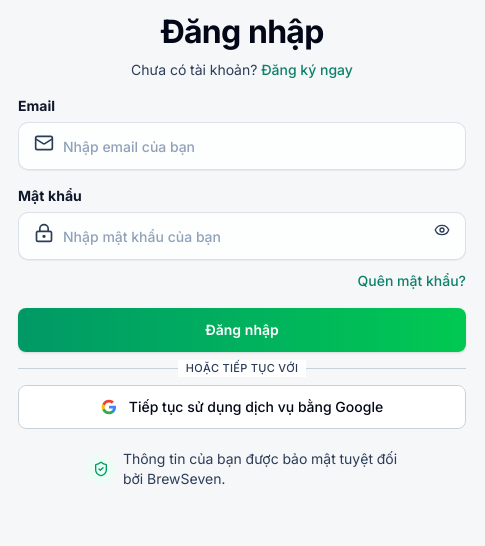
Test case: LoginForm Component › displays client-side validation errors when submitted empty
Click the button "Đăng nhập": (242, 330) [18,308,466,352]
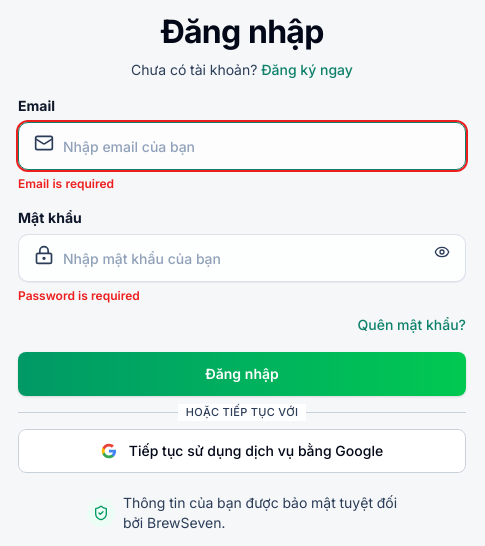
Expected: the text "Email is required" is shown, [18,176,114,191]
Expected: the text "Password is required" is shown, [18,288,140,303]
